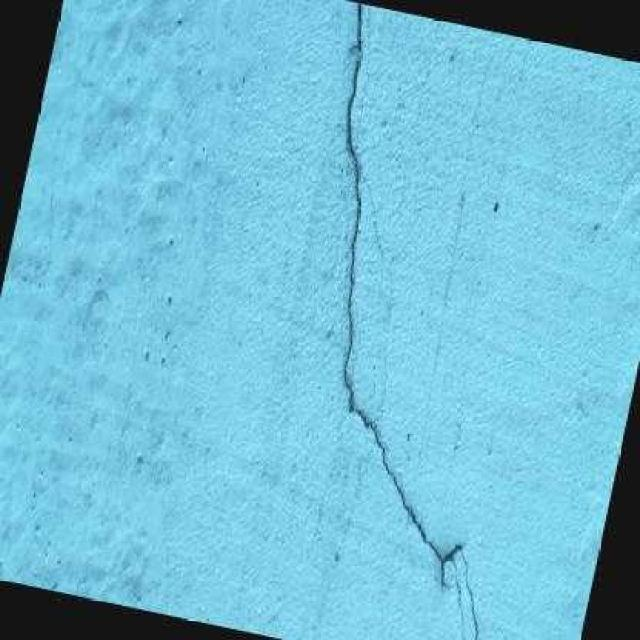D00: (342, 1, 476, 640)
